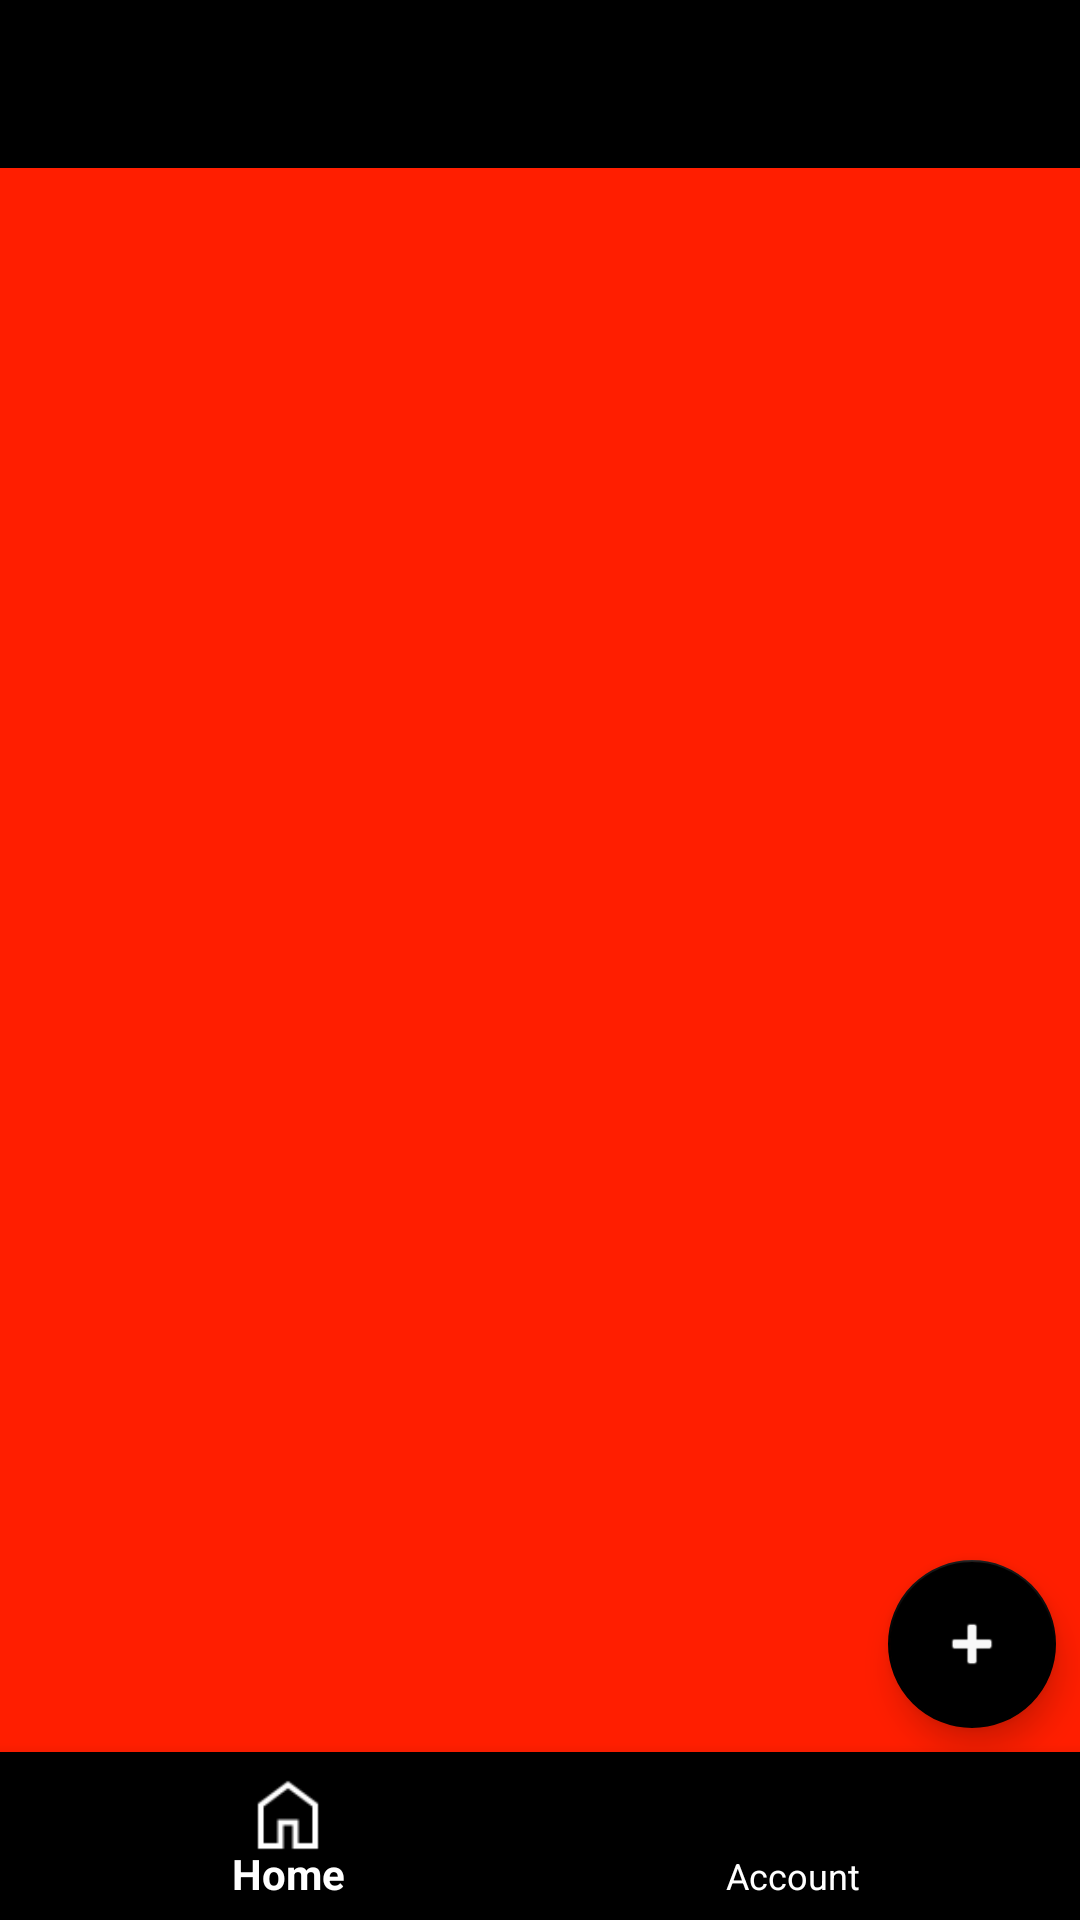

Where icons sit on this 1080px×1920px app screen, as box=[x1, y1, x2, y2]:
add: box=[888, 1560, 1056, 1728]
